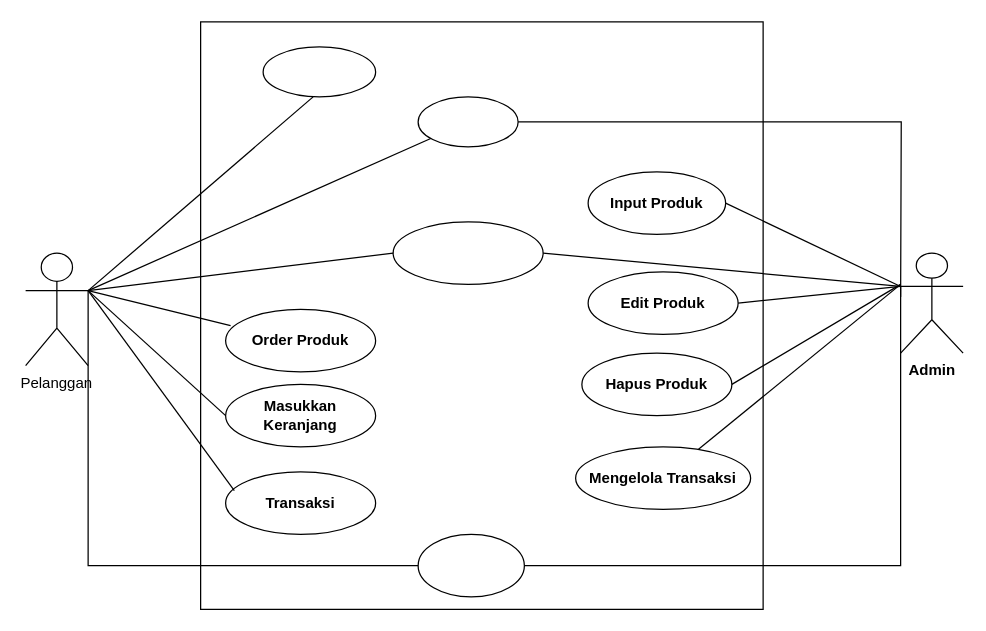
The diagram is 986 pixels wide and 631 high, and some of its shapes have lost their labels. Each missing label, with the centre of its shape:
"Login" belongs at pixel 467 121.
"LogOut" belongs at pixel 470 565.
"Registrasi" belongs at pixel 319 71.
"View Produk" belongs at pixel 467 252.
